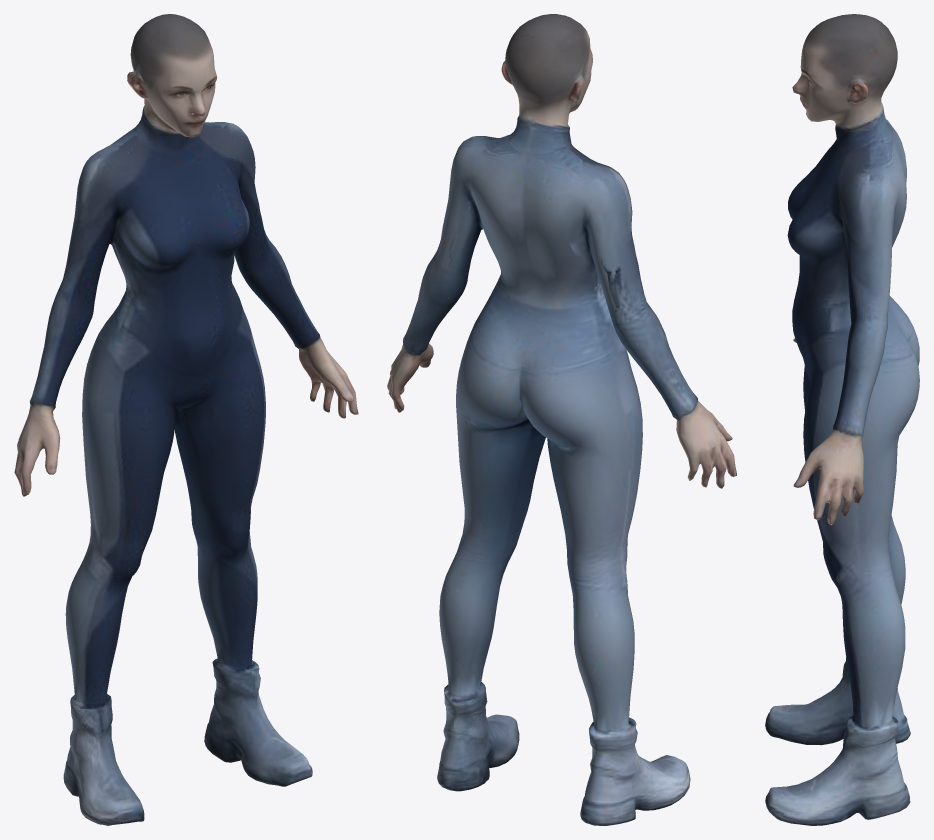
File: base_body_f.glb
3 renders of one model, left to right at view 1: azimuth 30°, elevation 25°; view 2: azimuth 150°, elevation 25°; view 3: azimuth 270°, elevation 25°, orthographic.
Parts seen in each view (by area): view 1: base_body_f; view 2: base_body_f; view 3: base_body_f.
Part boxes in pixels (<box>): base_body_f: <box>14,14,358,825</box>; base_body_f: <box>387,14,736,825</box>; base_body_f: <box>765,14,919,825</box>.
Size of the model in its own units: 0.8498 by 1.85 by 0.3415.
Materials: 1 (1 with a texture image).
